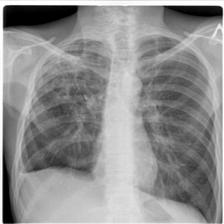tuberculosis: (10, 26, 219, 223)
